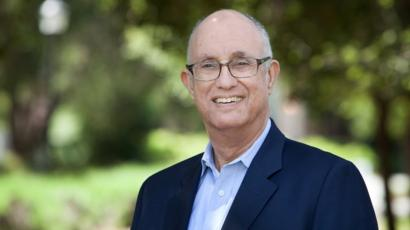person: (159, 8, 351, 210)
